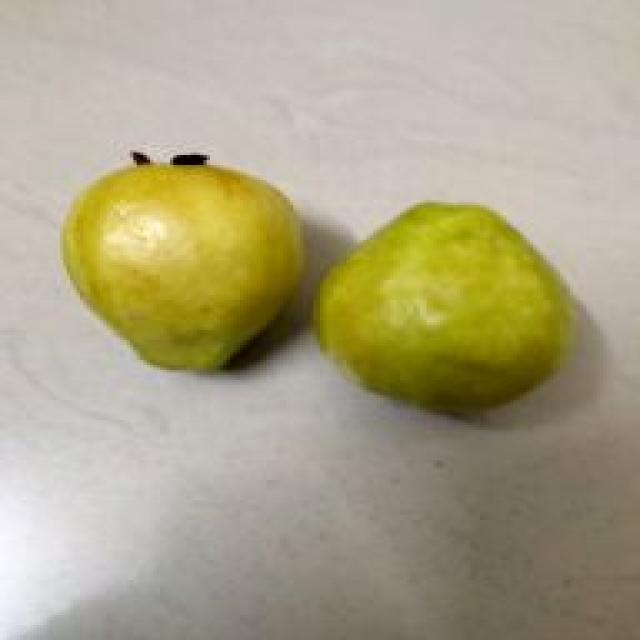Good_Guava: (310, 202, 577, 420), (60, 160, 307, 375)
